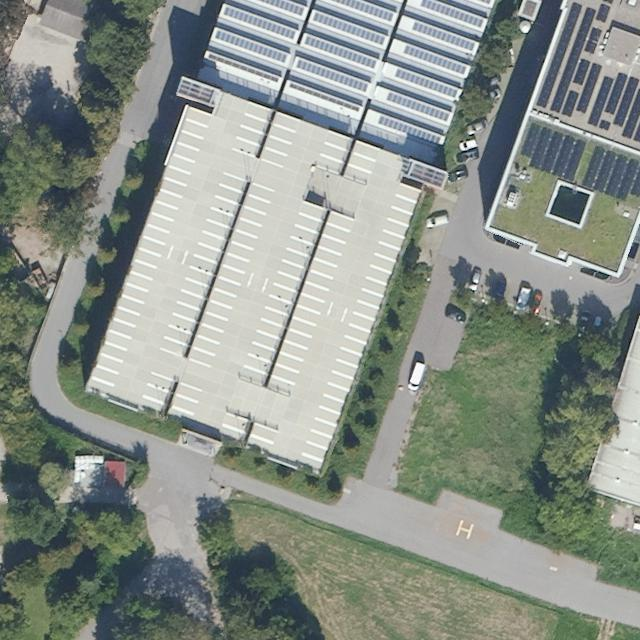PV: (534, 0, 584, 111), (548, 4, 597, 116), (519, 120, 588, 183), (580, 143, 639, 204), (220, 5, 299, 43), (311, 11, 388, 49), (294, 58, 371, 96), (302, 34, 380, 71), (213, 29, 289, 66), (400, 43, 470, 77), (392, 66, 462, 100), (410, 20, 478, 53), (384, 91, 452, 124), (376, 114, 443, 146), (418, 0, 487, 29), (575, 61, 605, 117), (585, 74, 615, 128), (328, 1, 396, 24), (611, 74, 639, 129), (604, 70, 629, 117), (620, 87, 639, 140), (256, 0, 306, 17), (583, 26, 605, 56), (561, 87, 581, 119), (571, 57, 592, 86), (595, 3, 614, 24), (598, 118, 612, 132), (632, 122, 639, 142)
